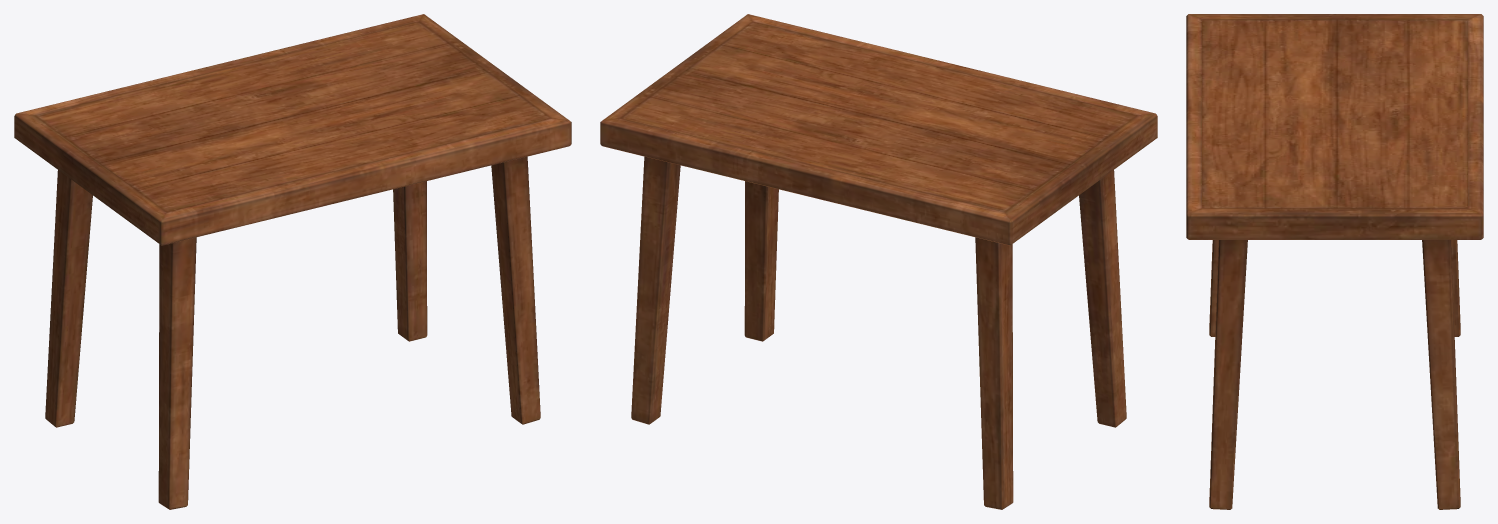
Rendered from wooden_table_02.glb.
3 views of the same model, side by side, from view 1: azimuth 30°, elevation 25°; view 2: azimuth 150°, elevation 25°; view 3: azimuth 270°, elevation 25° (orthographic).
Parts seen in each view (by area): view 1: wooden_table_02; view 2: wooden_table_02; view 3: wooden_table_02.
Part boxes in pixels (x1,y1,x2,y2): wooden_table_02: (14, 14, 571, 509); wooden_table_02: (600, 14, 1157, 509); wooden_table_02: (1186, 14, 1483, 509).
Size of the model in its own units: 1.13 by 0.7995 by 0.7061.
1 material, 1 textured.
